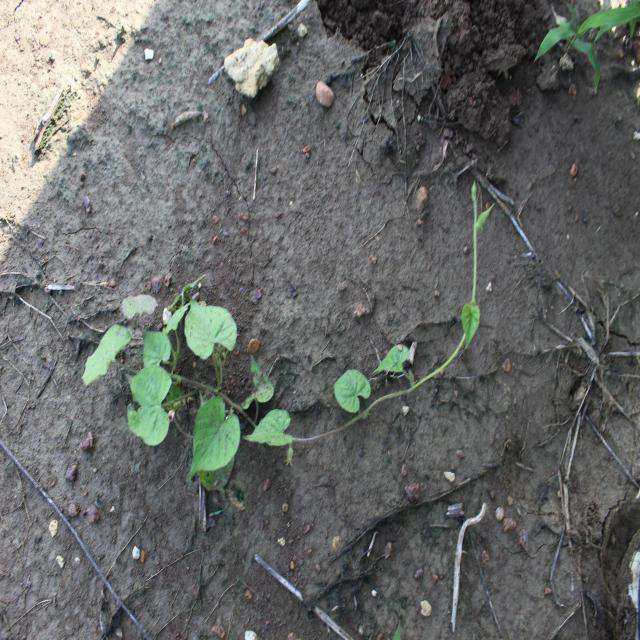MorningGlory: (81, 177, 496, 494)
